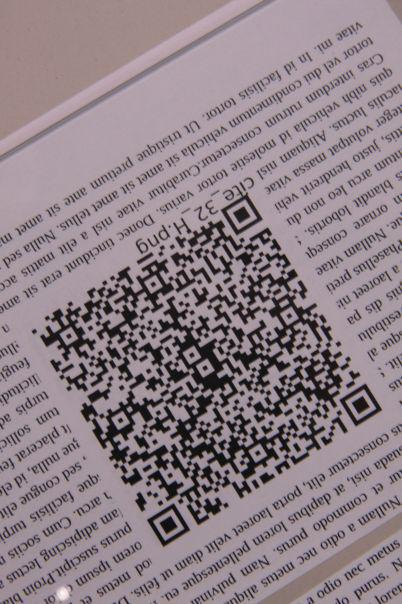Finder pattern: (219, 194, 265, 236), (148, 505, 190, 545), (341, 385, 381, 426)
